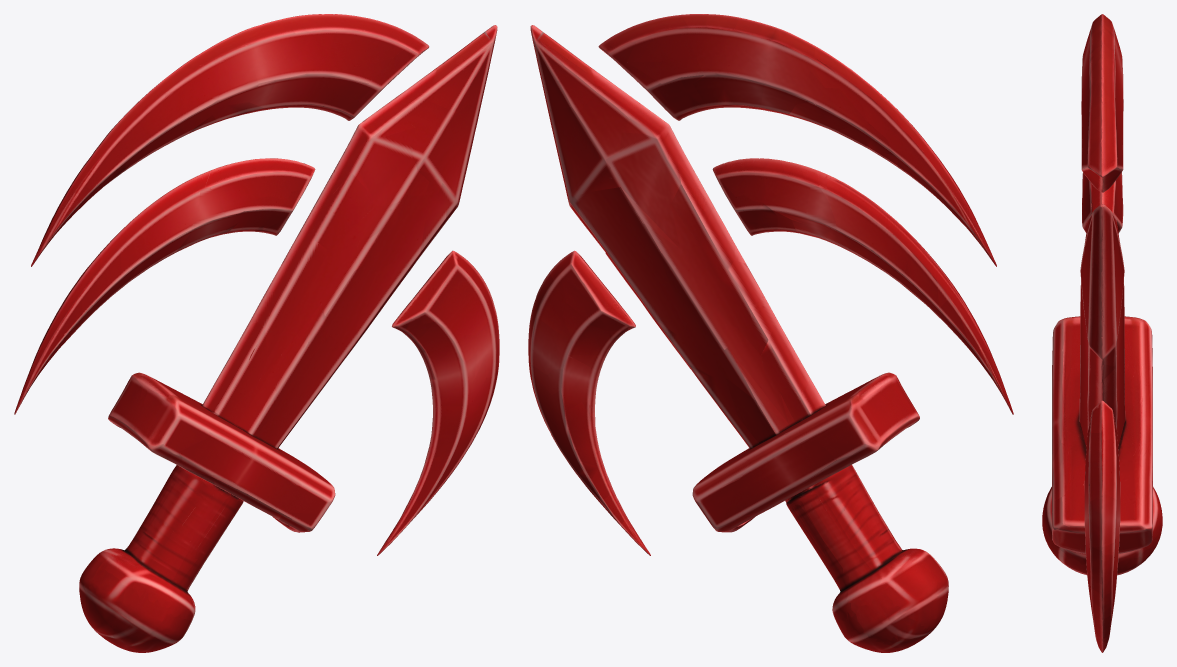
File: bonus-atk.glb
3 renders of one model, left to right at view 1: azimuth 30°, elevation 25°; view 2: azimuth 150°, elevation 25°; view 3: azimuth 270°, elevation 25°, orthographic.
Visible parts, largest first — view 1: output_unwrapped; view 2: output_unwrapped; view 3: output_unwrapped.
Boxes of the visible parts, <box> form: output_unwrapped: <box>14,14,499,652</box>; output_unwrapped: <box>528,14,1013,652</box>; output_unwrapped: <box>1042,14,1162,652</box>.
Size of the model in its own units: 1.63 by 1.9 by 0.3466.
Materials: 1 (1 with a texture image).
